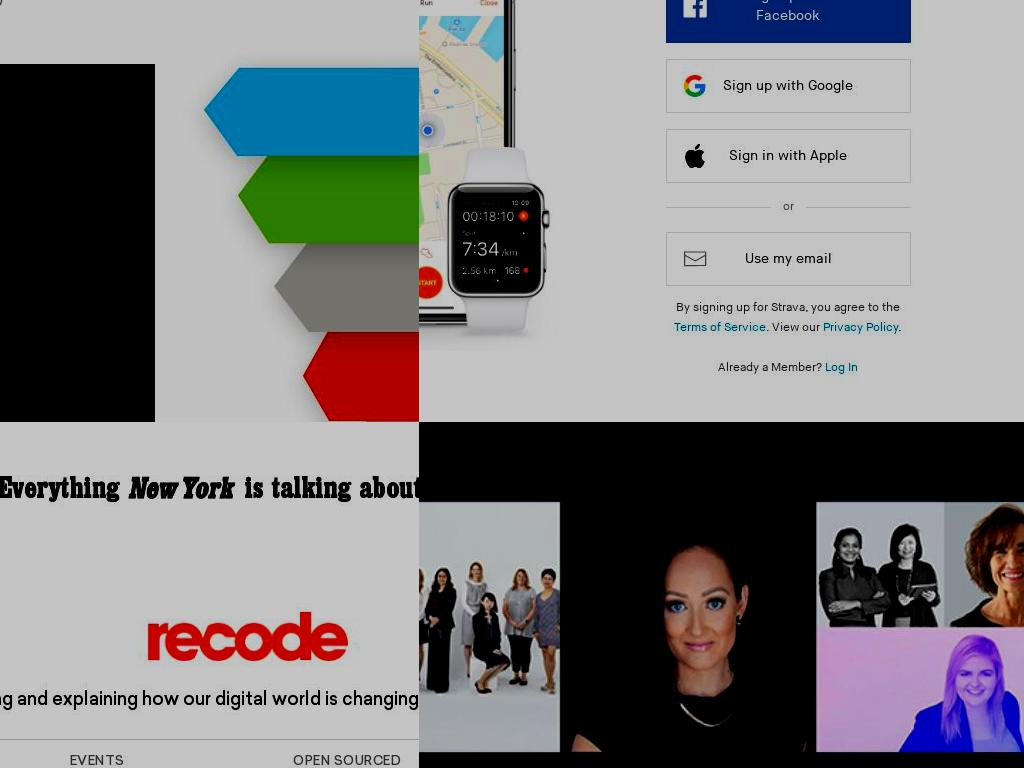button: (665, 59, 911, 113), (665, 129, 911, 183), (665, 232, 911, 286), (665, 0, 911, 43), (225, 756, 419, 768), (1, 756, 193, 768)
iframe: (0, 64, 155, 422), (0, 440, 419, 531)
image: (419, 422, 1024, 768), (419, 0, 570, 351), (148, 612, 348, 662)
link: (674, 320, 767, 335), (823, 320, 899, 335), (825, 360, 859, 375)
text: (0, 687, 419, 716), (676, 300, 901, 315), (718, 360, 826, 375), (766, 320, 824, 335), (770, 197, 806, 215), (898, 320, 903, 335)
